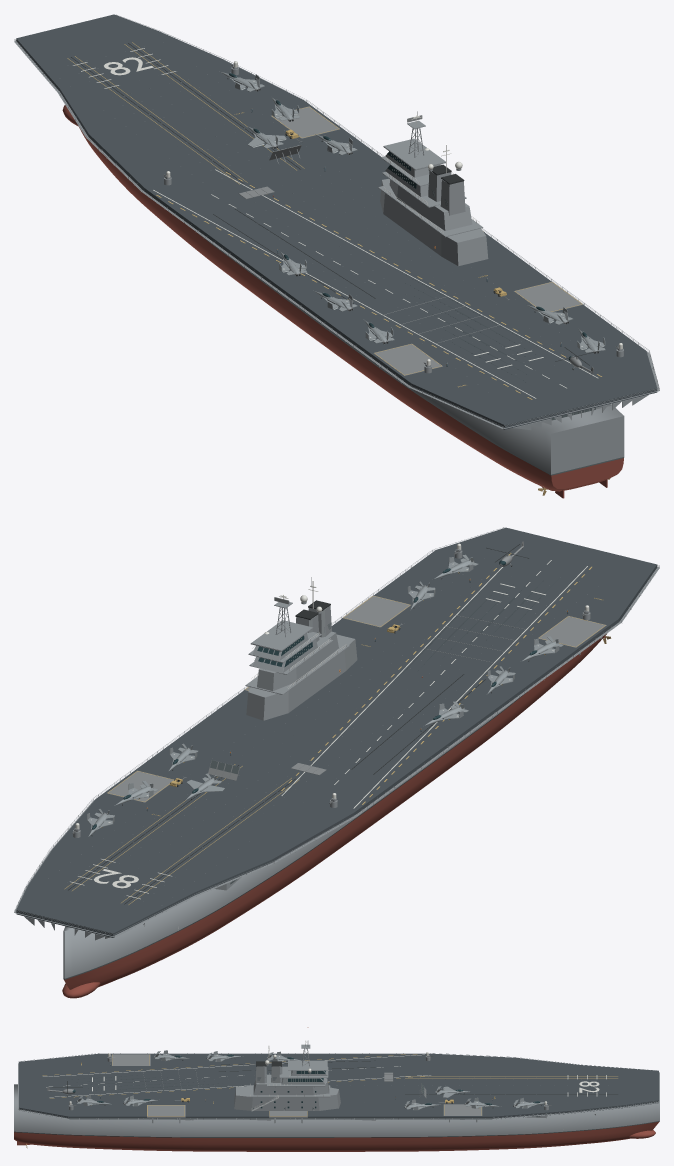
File: carrier.glb
The picture shows the model from 3 angles, top to bottom: view 1: azimuth 30°, elevation 25°; view 2: azimuth 150°, elevation 25°; view 3: azimuth 270°, elevation 25°; orthographic projection. The views are drawn at different scales.
Visible parts, largest first — view 1: deck, hull, bottom, metal, aircraft, white, ochre, black, deck_wear, stripe; view 2: deck, hull, bottom, metal, aircraft, white, ochre, black, stripe, window, deck_wear; view 3: deck, hull, bottom, metal, aircraft, white, ochre, stripe, black, deck_wear, window.
Part boxes in pixels (bbox=[...]): deck: bbox=[16, 14, 657, 429]; hull: bbox=[14, 14, 659, 474]; bottom: bbox=[62, 105, 623, 498]; metal: bbox=[15, 41, 659, 429]; aircraft: bbox=[220, 71, 605, 352]; white: bbox=[73, 48, 622, 398]; ochre: bbox=[67, 42, 601, 399]; black: bbox=[71, 43, 617, 374]; deck_wear: bbox=[397, 270, 538, 382]; stripe: bbox=[198, 147, 624, 475]; deck: bbox=[16, 527, 657, 937]; hull: bbox=[14, 527, 659, 978]; bottom: bbox=[62, 634, 606, 998]; metal: bbox=[15, 541, 658, 936]; aircraft: bbox=[87, 554, 563, 836]; white: bbox=[70, 543, 589, 930]; ochre: bbox=[64, 553, 605, 904]; black: bbox=[68, 544, 585, 924]; stripe: bbox=[63, 623, 527, 979]; window: bbox=[92, 560, 537, 829]; deck_wear: bbox=[398, 578, 559, 677]; deck: bbox=[19, 1053, 658, 1119]; hull: bbox=[14, 1044, 659, 1137]; bottom: bbox=[14, 1121, 659, 1151]; metal: bbox=[47, 1040, 595, 1120]; aircraft: bbox=[77, 1050, 548, 1110]; white: bbox=[43, 1041, 606, 1111]; ochre: bbox=[42, 1054, 617, 1116]; stripe: bbox=[14, 1077, 659, 1137]; black: bbox=[52, 1056, 617, 1114]; deck_wear: bbox=[71, 1075, 247, 1093]; window: bbox=[72, 1054, 540, 1108].
Size of the model in its own units: 79.72 by 69.5 by 333.
